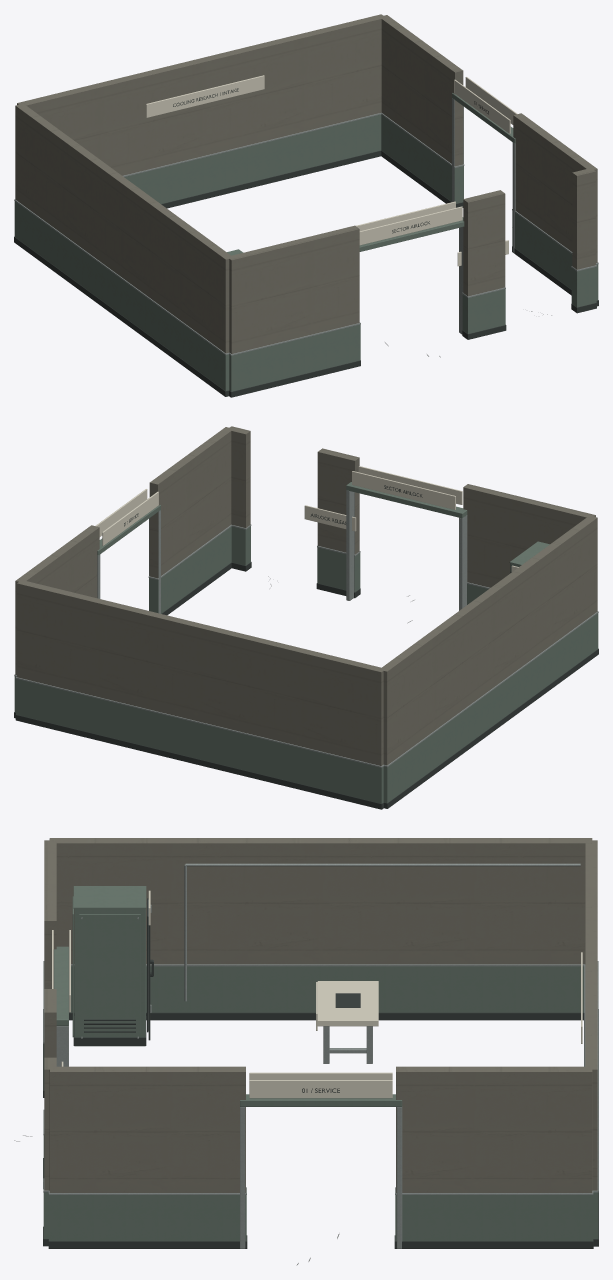
File: power_intake.glb
The picture shows the model from 3 angles, top to bottom: view 1: azimuth 30°, elevation 25°; view 2: azimuth 150°, elevation 25°; view 3: azimuth 270°, elevation 25°; orthographic projection. The views are drawn at different scales.
Parts seen in each view (by area): view 1: power_intake / power_plaster, power_intake / power_sage_enamel, power_intake / power_instrument_ivory, power_intake / power_blackened_steel, power_intake / power_galvanized; view 2: power_intake / power_plaster, power_intake / power_sage_enamel, power_intake / power_blackened_steel, power_intake / power_instrument_ivory, power_intake / power_galvanized; view 3: power_intake / power_plaster, power_intake / power_sage_enamel, power_intake / power_blackened_steel, power_intake / power_galvanized, power_intake / power_instrument_ivory.
Boxes of the visible parts, x1,y1,x2,y2 form: power_intake / power_plaster: (15, 14, 597, 353); power_intake / power_sage_enamel: (14, 93, 598, 391); power_intake / power_instrument_ivory: (146, 75, 517, 266); power_intake / power_blackened_steel: (14, 88, 598, 397); power_intake / power_galvanized: (14, 98, 598, 355); power_intake / power_plaster: (15, 426, 597, 765); power_intake / power_sage_enamel: (14, 482, 598, 803); power_intake / power_blackened_steel: (14, 485, 598, 809); power_intake / power_instrument_ivory: (95, 466, 518, 571); power_intake / power_galvanized: (14, 490, 598, 767); power_intake / power_plaster: (44, 838, 597, 1192); power_intake / power_sage_enamel: (43, 886, 598, 1241); power_intake / power_blackened_steel: (43, 898, 598, 1248); power_intake / power_galvanized: (43, 863, 598, 1248); power_intake / power_instrument_ivory: (51, 890, 582, 1098).
Size of the model in its own units: 11.02 by 3.61 by 10.81.
10 materials, 4 textured.
